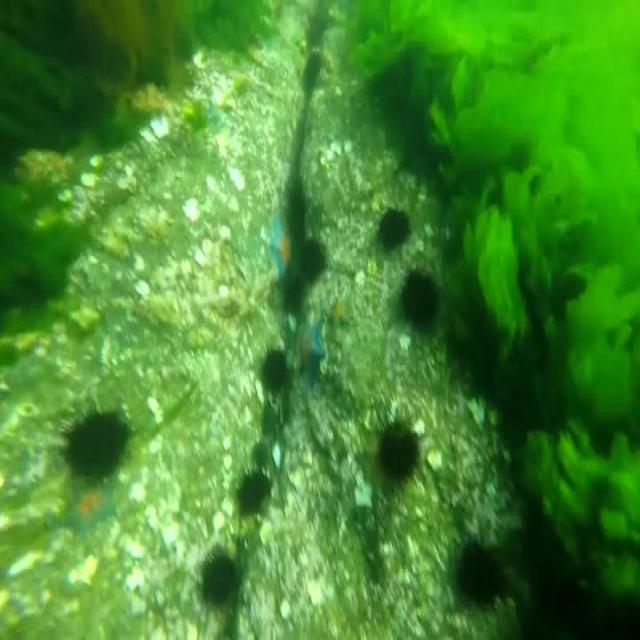echinus: (60, 408, 132, 472), (454, 537, 510, 607), (61, 477, 116, 544), (399, 264, 441, 329), (380, 417, 420, 477), (268, 212, 300, 284), (199, 552, 242, 602), (298, 304, 321, 388), (239, 463, 271, 509), (380, 204, 410, 251), (279, 269, 307, 316), (263, 341, 288, 392), (324, 288, 350, 332), (303, 240, 325, 281)
scallop: (227, 158, 248, 191), (151, 111, 171, 139), (182, 197, 202, 223), (207, 85, 227, 106), (428, 447, 444, 471)
